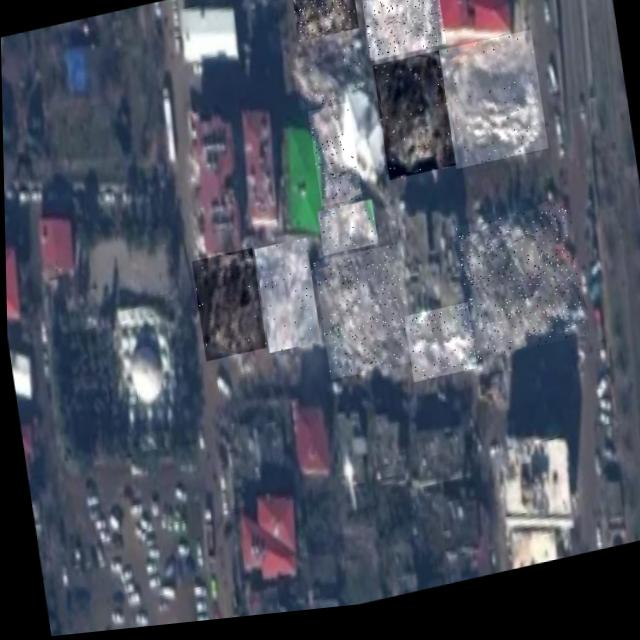Rubble: (454, 212, 586, 371), (438, 40, 547, 179), (311, 249, 414, 387), (372, 57, 461, 189), (190, 251, 265, 366), (252, 242, 319, 360), (355, 0, 445, 69), (402, 311, 475, 391), (306, 108, 361, 214), (291, 51, 367, 117), (316, 207, 377, 263), (288, 0, 358, 48)
